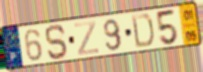5: (155, 7, 180, 47)
6: (23, 27, 44, 62)
9: (102, 17, 124, 53)
D: (130, 13, 155, 50)
S: (44, 23, 70, 61)
Z: (73, 19, 100, 57)
